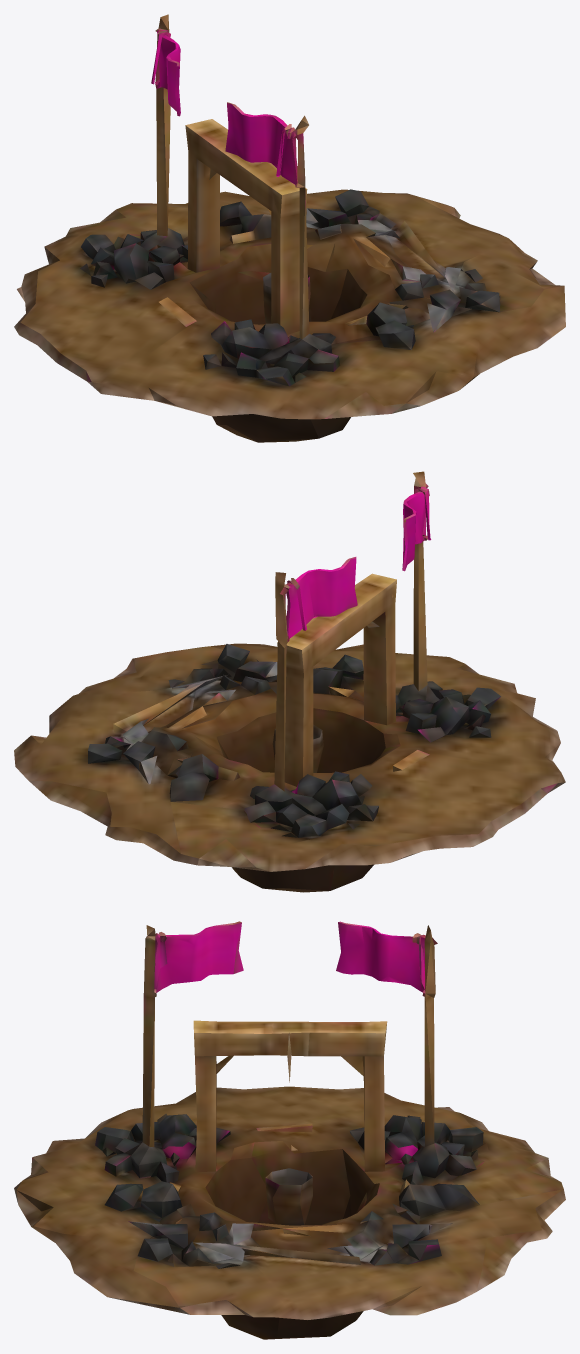
Rendered from iron_mine.lod2.glb.
3 renders of one model, top to bottom at view 1: azimuth 30°, elevation 25°; view 2: azimuth 150°, elevation 25°; view 3: azimuth 270°, elevation 25°, orthographic.
Parts seen in each view (by area): view 1: iron_mine.lod2_uv; view 2: iron_mine.lod2_uv; view 3: iron_mine.lod2_uv.
Part boxes in pixels (x1,y1,x2,y2): iron_mine.lod2_uv: [14, 14, 565, 442]; iron_mine.lod2_uv: [14, 471, 565, 892]; iron_mine.lod2_uv: [14, 921, 565, 1339].
Size of the model in its own units: 1.82 by 1.38 by 1.87.
Materials: 1 (1 with a texture image).
